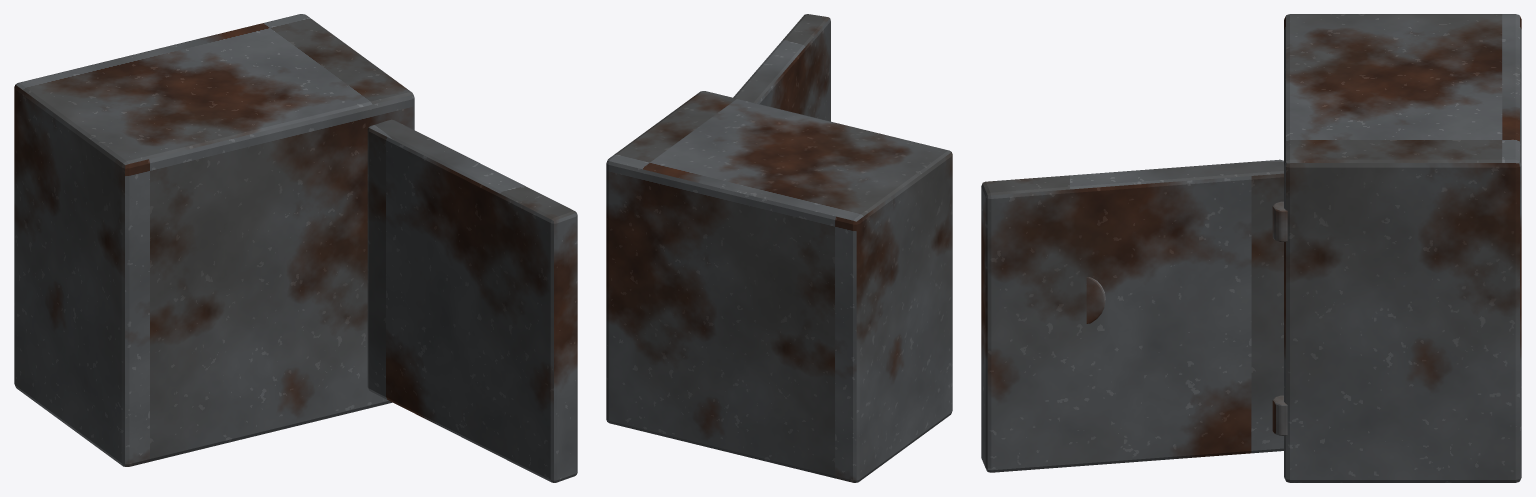
Rendered from O03_wall_safe.glb.
The picture shows the model from 3 angles, left to right: view 1: azimuth 30°, elevation 25°; view 2: azimuth 150°, elevation 25°; view 3: azimuth 270°, elevation 25°; orthographic projection. The views are drawn at different scales.
Visible parts, largest first — view 1: O03_wall_safe; view 2: O03_wall_safe; view 3: O03_wall_safe.
Part boxes in pixels (<box>): O03_wall_safe: <box>14,14,577,482</box>; O03_wall_safe: <box>606,14,952,482</box>; O03_wall_safe: <box>981,14,1521,482</box>.
Bounding box in the file's own units: 0.4242 × 0.3957 × 0.6.
3 materials, 3 textured.
